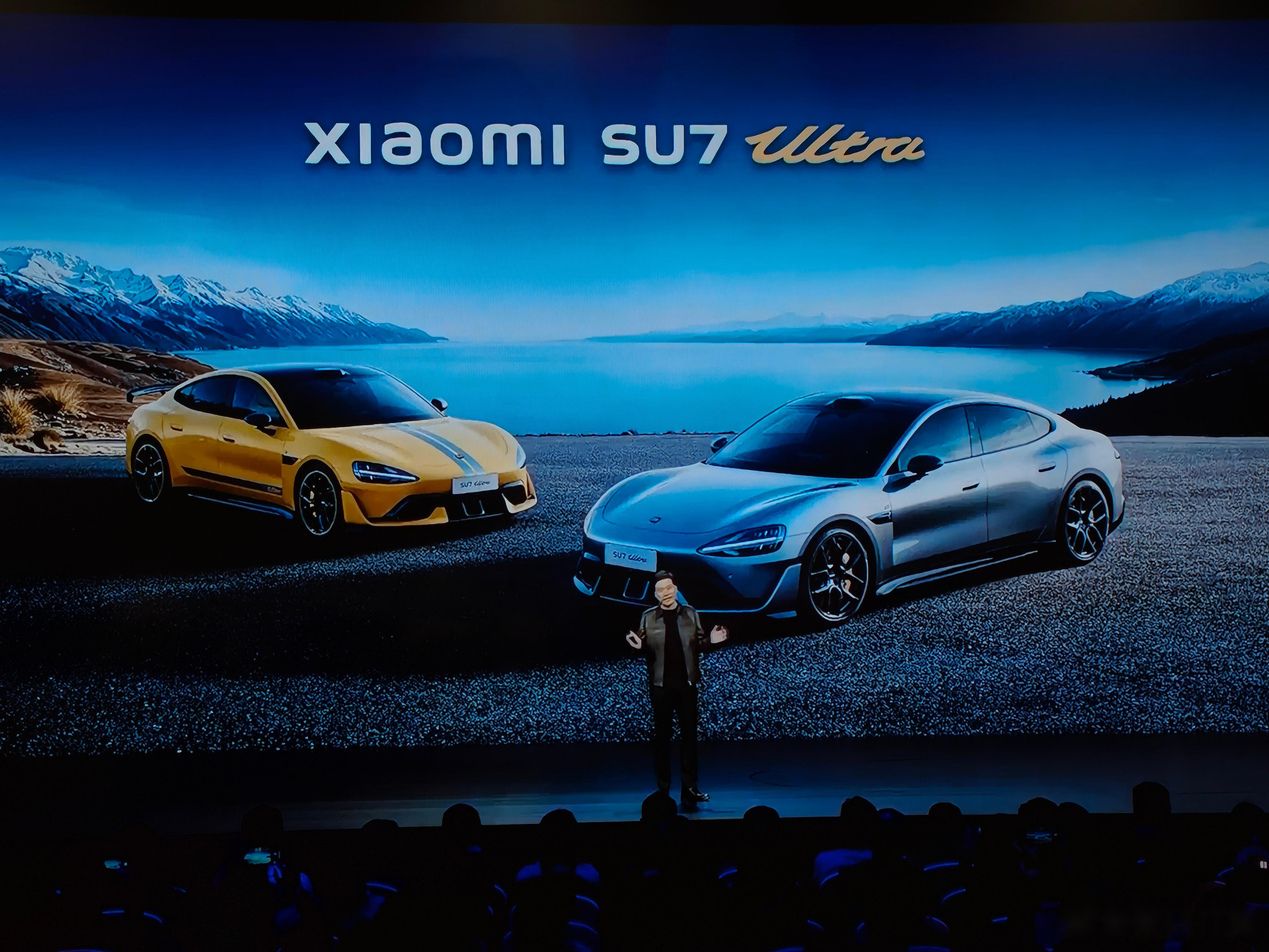su7: (572, 382, 1127, 620), (124, 355, 545, 542)
